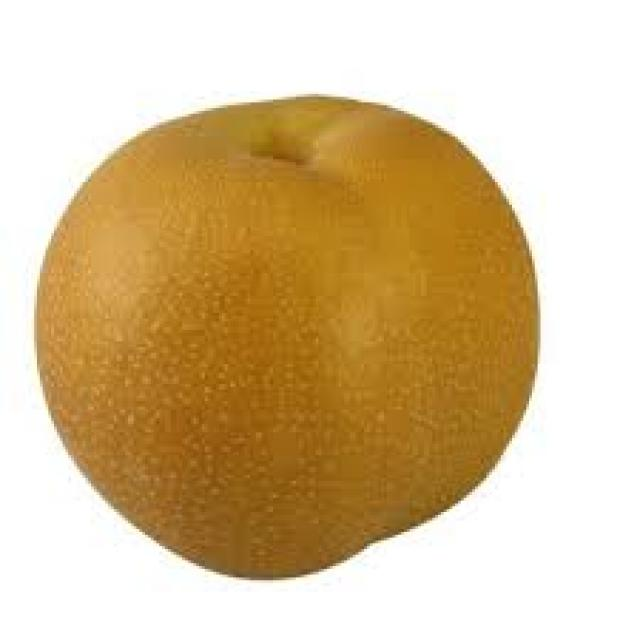pear: (22, 82, 554, 598)
